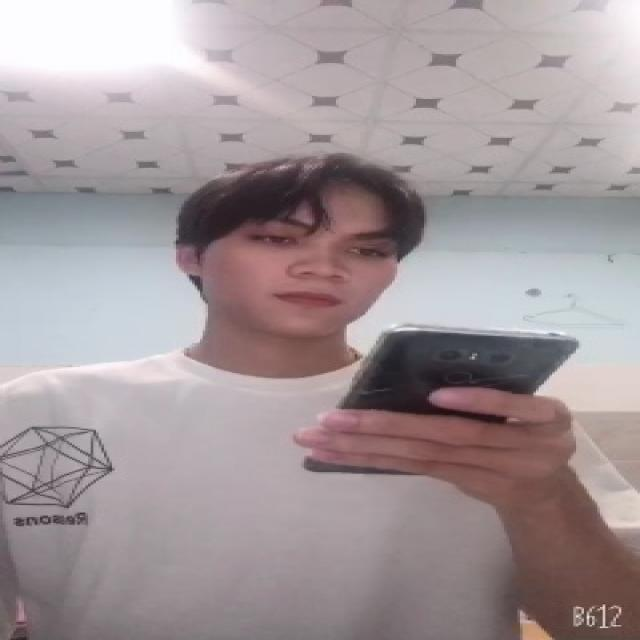Phone: (300, 322, 582, 478)
